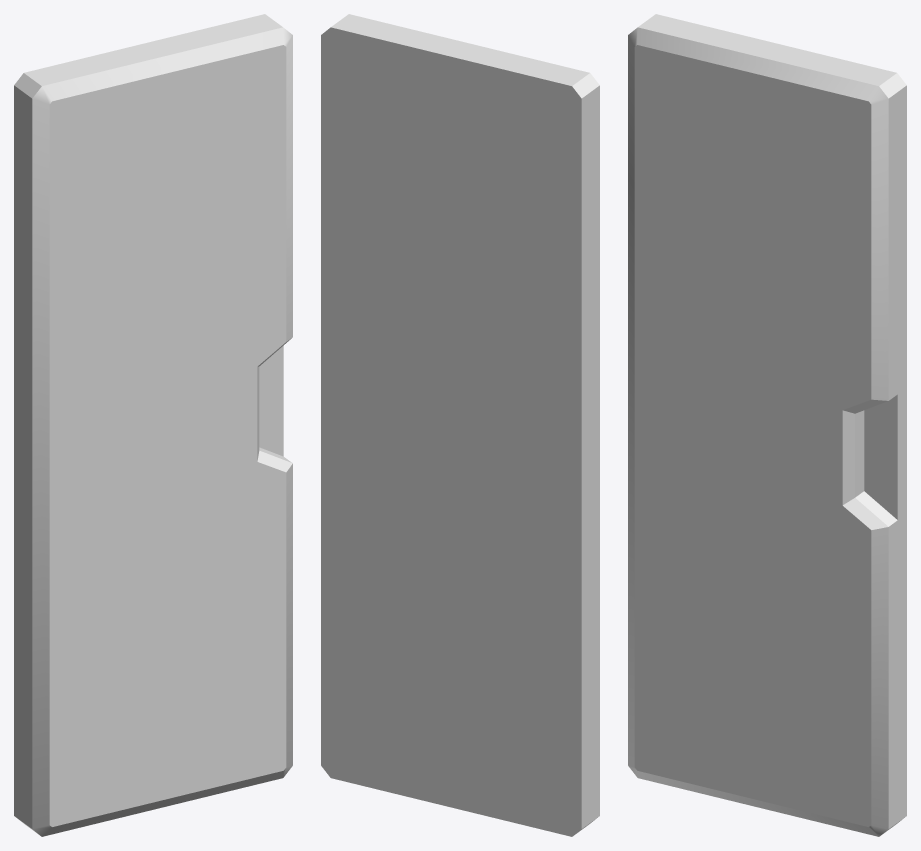
Rendered from Cont_Locker_Door.fbx.
3 views of the same model, side by side, from view 1: azimuth 30°, elevation 25°; view 2: azimuth 150°, elevation 25°; view 3: azimuth 330°, elevation 25° (orthographic).
Visible parts, largest first — view 1: Cont_Locker_Door; view 2: Cont_Locker_Door; view 3: Cont_Locker_Door.
Boxes of the visible parts, x1,y1,x2,y2 form: Cont_Locker_Door: [14, 14, 292, 836]; Cont_Locker_Door: [321, 14, 599, 836]; Cont_Locker_Door: [628, 14, 906, 836].
Bounding box in the file's own units: 0.7266 × 2 × 0.1138.
